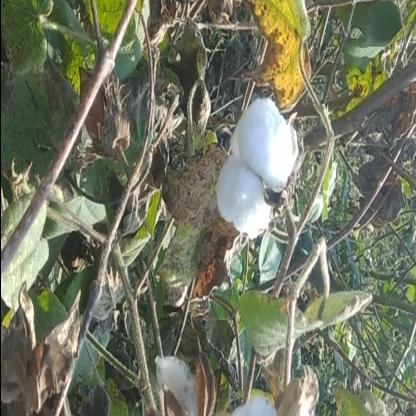cotton_ready: (213, 98, 305, 243)
